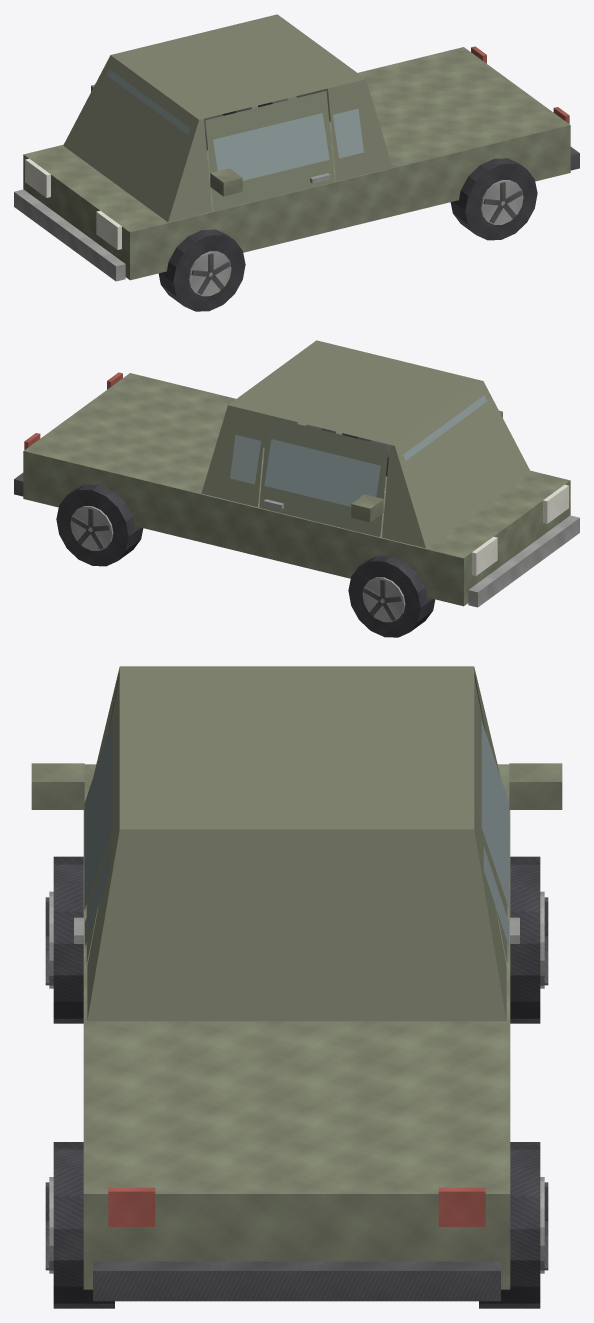
The model's file is vehicle_compact.glb.
3 views of the same model, one above another, from view 1: azimuth 30°, elevation 25°; view 2: azimuth 150°, elevation 25°; view 3: azimuth 270°, elevation 25° (orthographic). The views are drawn at different scales.
Parts seen in each view (by area): view 1: body_panel, door_mirror.001, hub.001, hub.003; view 2: body_panel, door_mirror, hub, hub.002; view 3: body_panel, door_mirror, door_mirror.001, hub.002, hub.003, hub, hub.001.
Boxes of the visible parts, <box> form: body_panel: <box>14,14,579,281</box>; door_mirror.001: <box>205,90,334,210</box>; hub.001: <box>158,229,245,311</box>; hub.003: <box>450,158,537,240</box>; body_panel: <box>14,340,579,607</box>; door_mirror: <box>259,416,388,536</box>; hub: <box>348,555,435,637</box>; hub.002: <box>56,484,143,566</box>; body_panel: <box>83,666,510,1301</box>; door_mirror: <box>474,677,562,964</box>; door_mirror.001: <box>31,677,119,964</box>; hub.002: <box>479,1142,548,1308</box>; hub.003: <box>45,1142,114,1308</box>; hub: <box>510,856,548,1023</box>; hub.001: <box>45,856,83,1023</box>.
Bounding box in the file's own units: 3.85 × 1.41 × 1.91.
7 materials, 7 textured.
